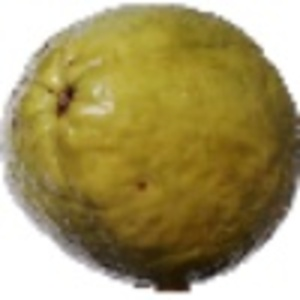goiaba: (4, 6, 297, 279)
